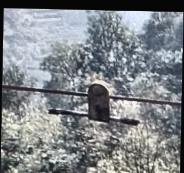damper_defect: (44, 78, 142, 127)
